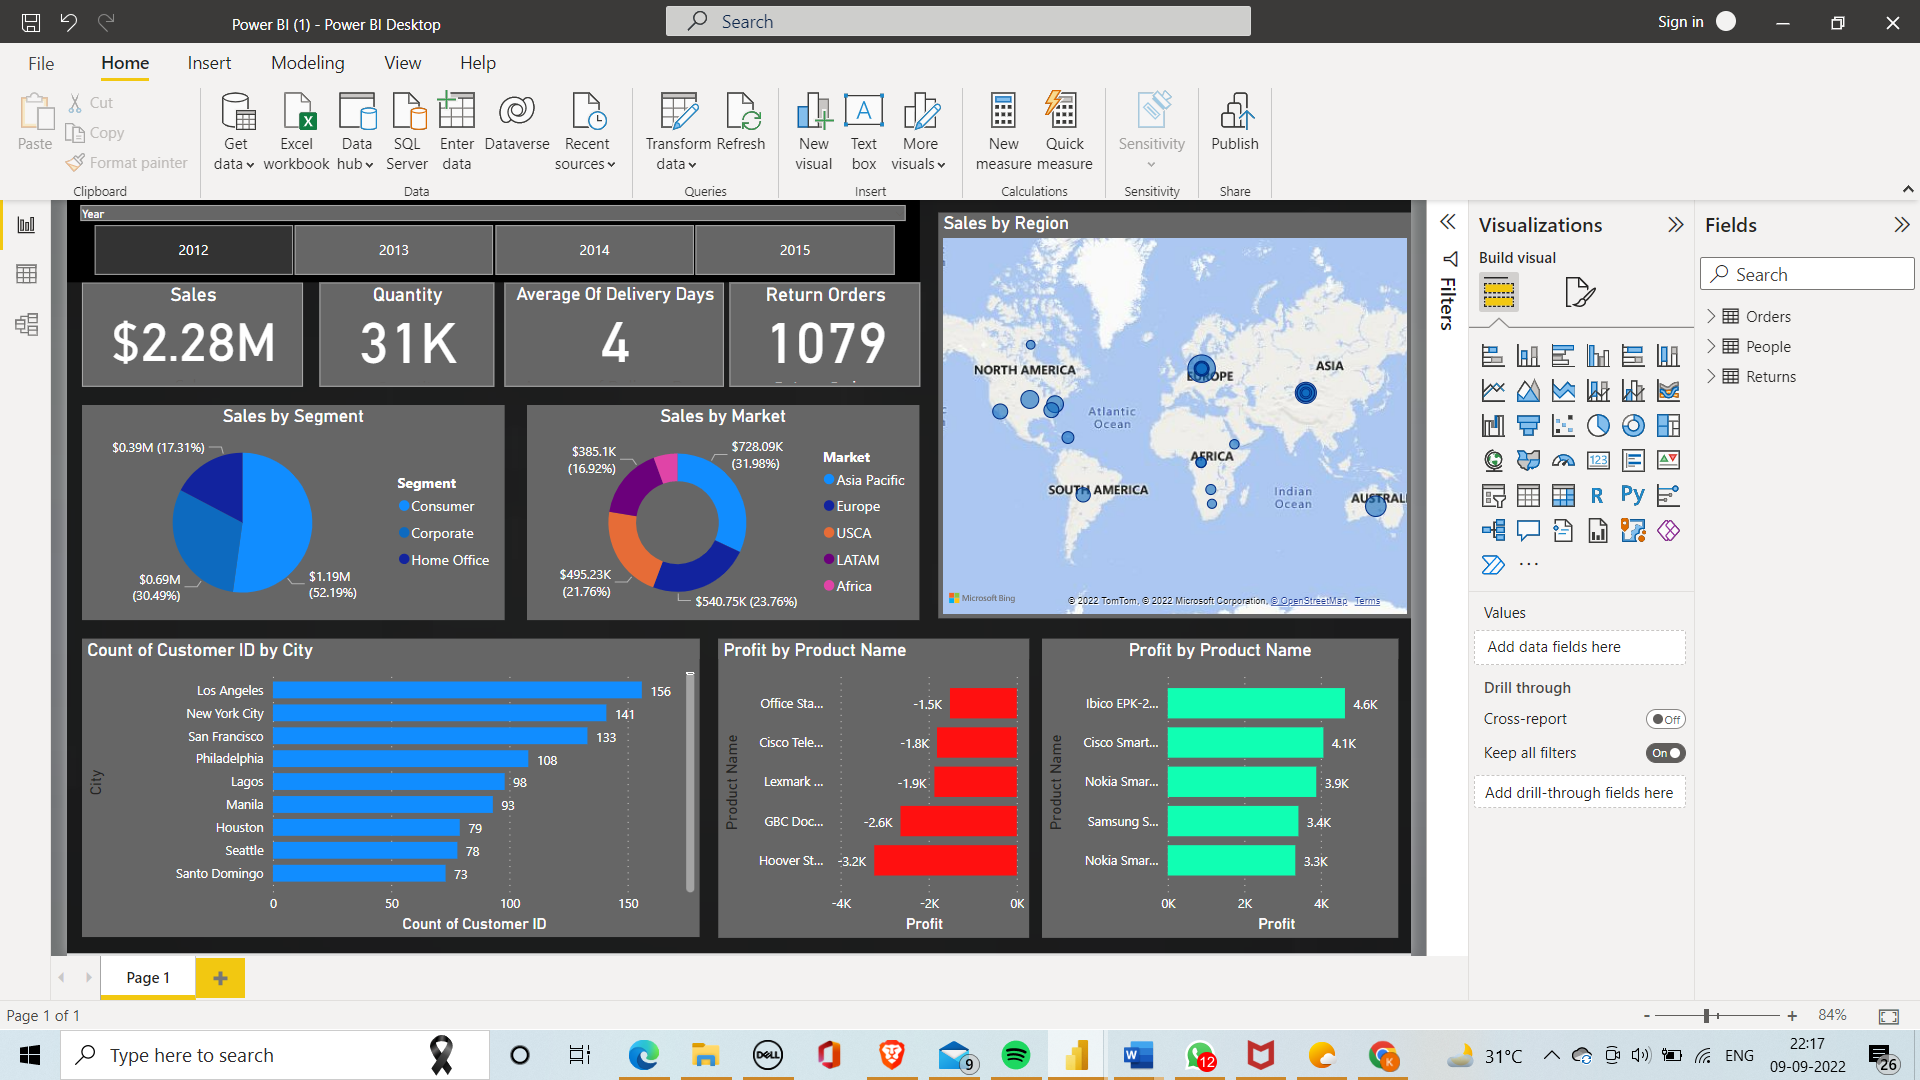

This screenshot's page, from the dashboard's own definition file:
{"tool":"powerbi","page":{"name":"Page 1","canvas":[1280,720],"ordinal":0},"visuals":[{"type":"card","title":"Sales","fields":{"Values":["Sum(Orders.Sales)"]},"box":[13.7,78.3,210.1,98.9],"z":0},{"type":"card","title":"Average Of Delivery Days","fields":{"Values":["Avg(Orders.Delivery Days)"]},"box":[416.1,78.3,208.8,98.9],"z":1000},{"type":"card","title":"Quantity","fields":{"Values":["Sum(Orders.Quantity)"]},"box":[240.3,78.3,166.2,98.9],"z":2000},{"type":"slicer","fields":{"Values":["Orders.Year"]},"box":[0,0,811.7,78.3],"z":3000},{"type":"card","title":"Return Orders","fields":{"Values":["Sum(Returns.Retturn Orders)"]},"box":[630.4,78.3,181.3,98.9],"z":4000},{"type":"map","fields":{"Category":["Orders.Region"],"Size":["Sum(Orders.Sales)"]},"box":[829.5,11.9,451,386.8],"z":5000},{"type":"clusteredBarChart","fields":{"Category":["Orders.Product Name"],"Y":["Sum(Orders.Profit)"]},"box":[928.3,417.7,339.2,284.4],"z":6000},{"type":"clusteredBarChart","fields":{"Category":["Orders.Product Name"],"Y":["Sum(Orders.Profit)"]},"box":[620,417.7,296.3,284.4],"z":7000},{"type":"pieChart","fields":{"Category":["Orders.Segment"],"Y":["Sum(Orders.Sales)"]},"box":[13.7,195,402.4,204.6],"z":8000},{"type":"donutChart","fields":{"Category":["Orders.Market","Orders.Segment"],"Y":["Sum(Orders.Sales)"]},"box":[438.1,195,373.6,204.6],"z":9000},{"type":"clusteredBarChart","fields":{"Y":["CountNonNull(Orders.Customer ID)"],"Category":["Orders.City"]},"box":[13.7,417.5,587.8,284.3],"z":10000}]}

Visuals, with their boxes on the page's 1280x720 design canvas (x1, y1, x2, y2). These are canvas units, not pixel positions in the 1920x1080 screenshot, which may show the page scaled, cropped or inside an application window:
"Sales" card: BBox(14, 78, 224, 177)
"Average Of Delivery Days" card: BBox(416, 78, 625, 177)
"Quantity" card: BBox(240, 78, 406, 177)
slicer - Orders.Year: BBox(0, 0, 812, 78)
"Return Orders" card: BBox(630, 78, 812, 177)
map - Orders.Region x Sum(Orders.Sales): BBox(830, 12, 1280, 399)
clusteredBarChart - Orders.Product Name x Sum(Orders.Profit): BBox(928, 418, 1268, 702)
clusteredBarChart - Orders.Product Name x Sum(Orders.Profit): BBox(620, 418, 916, 702)
pieChart - Orders.Segment x Sum(Orders.Sales): BBox(14, 195, 416, 400)
donutChart - Orders.Market x Orders.Segment: BBox(438, 195, 812, 400)
clusteredBarChart - CountNonNull(Orders.Customer ID) x Orders.City: BBox(14, 418, 602, 702)
